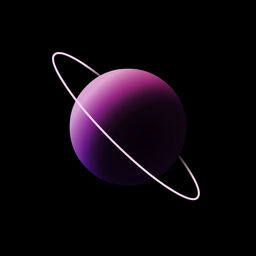planet: (44, 45, 209, 204)
